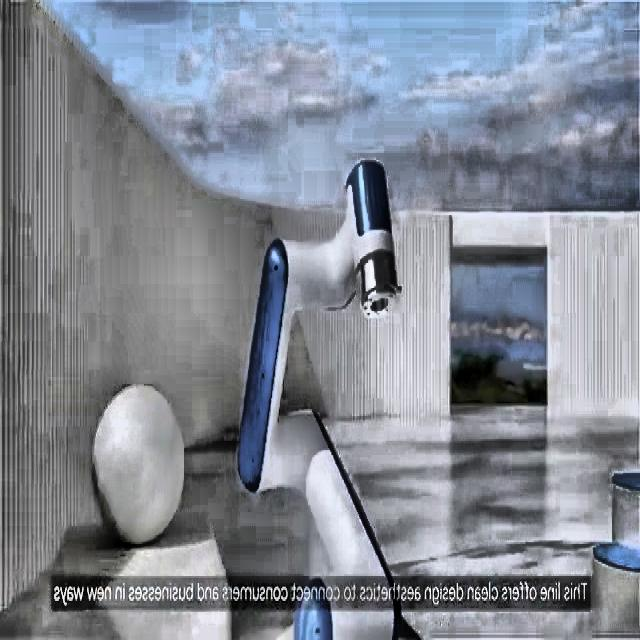robot: (232, 152, 414, 640)
